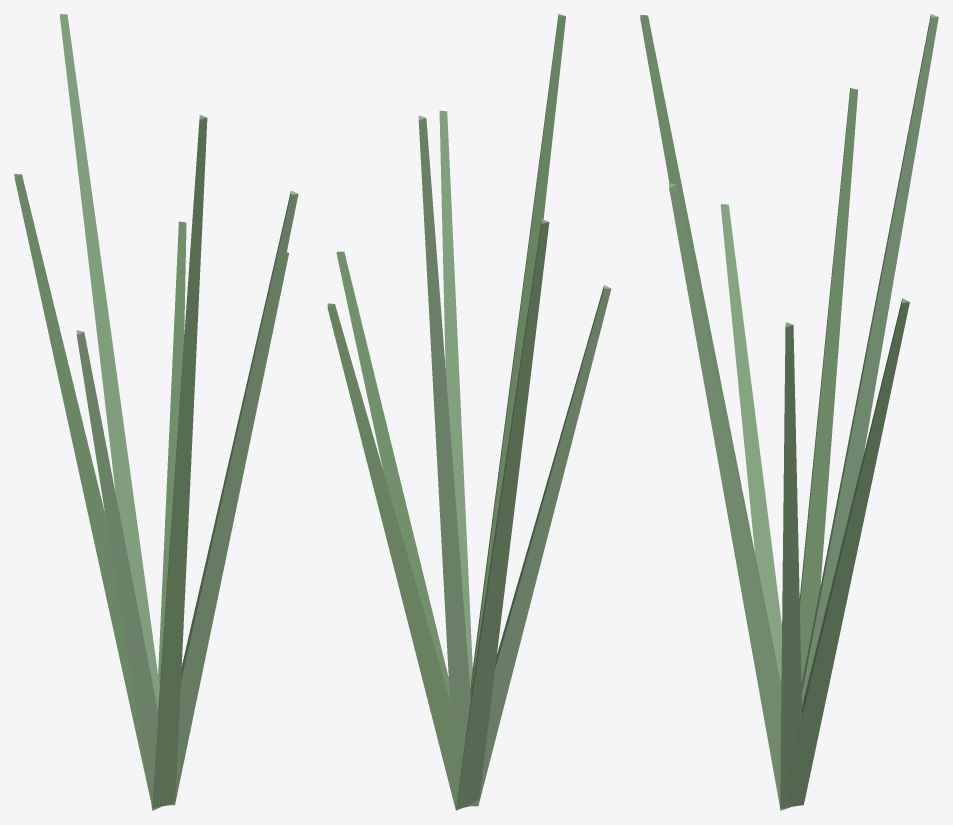
Rendered from grass_tuft_v02.glb.
3 renders of one model, left to right at view 1: azimuth 30°, elevation 25°; view 2: azimuth 150°, elevation 25°; view 3: azimuth 270°, elevation 25°, orthographic. The views are drawn at different scales.
Parts seen in each view (by area): view 1: lod0; view 2: lod0; view 3: lod0.
Part boxes in pixels (bbox=[...]): lod0: bbox=[14, 14, 298, 810]; lod0: bbox=[327, 14, 611, 810]; lod0: bbox=[640, 14, 938, 810].
Size of what is drawn, in the model's own units: 0.2746 by 0.8045 by 0.2804.
